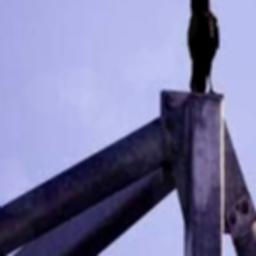Crow: (180, 0, 218, 93)
